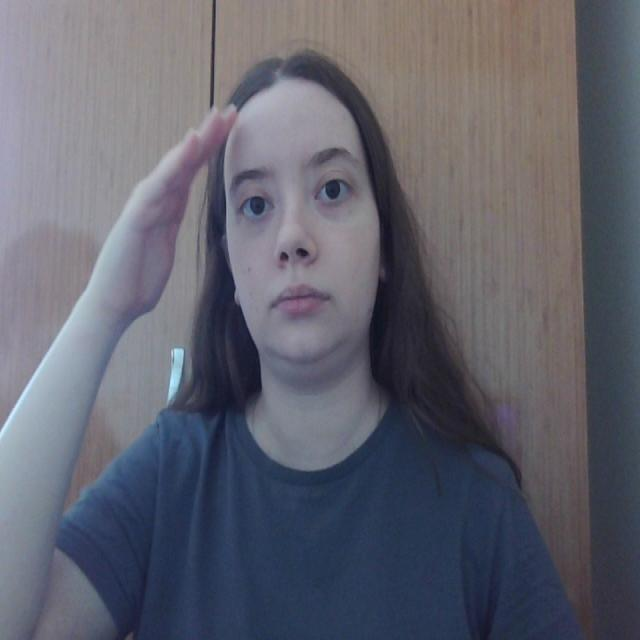Merhaba: (89, 64, 269, 380)
